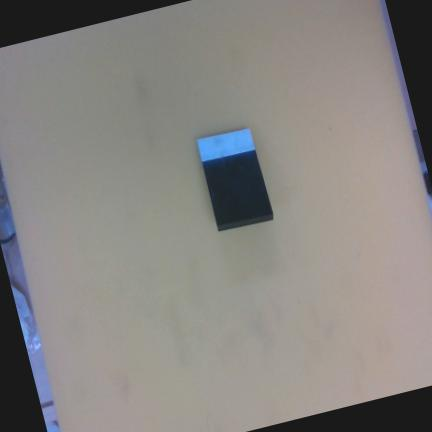tile: (193, 123, 272, 227)
